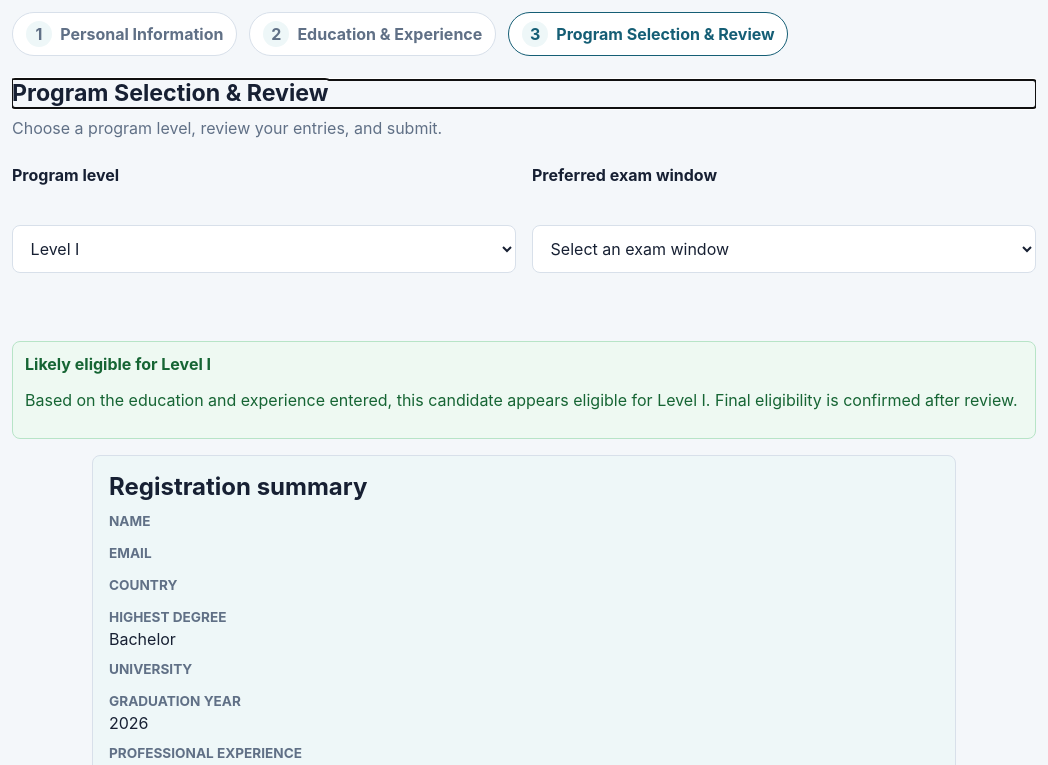
it: RegistrationWizard review step › updates eligibility hint when program changes on the review step
This screenshot has width=1048, height=765.
Expected: the heading "Likely eligible for Level I" is shown, [25,354,211,374]
Step 1. Select "Level II" in the dropdown labelled "Program level" → point(264, 249), box [12,225,516,273]
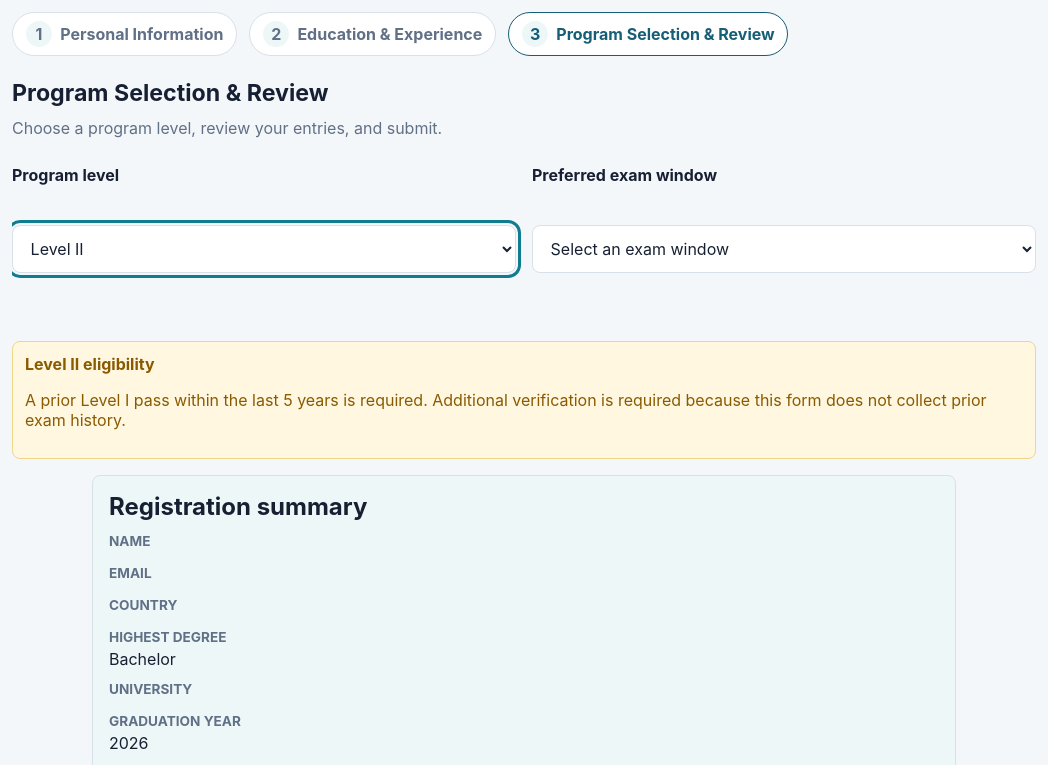
Expected: the text "A prior Level I pass within the last 5 years is required. Additional verification is required because this form does not" is shown, [25,390,987,430]
